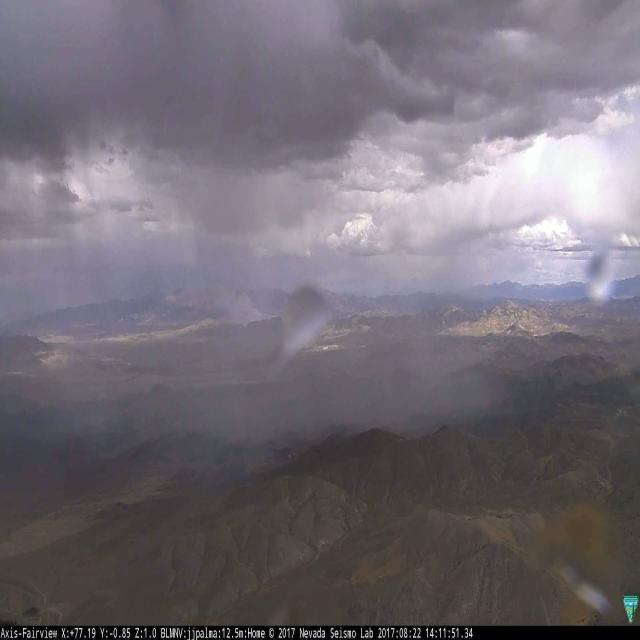smoke: (228, 292, 269, 322)
